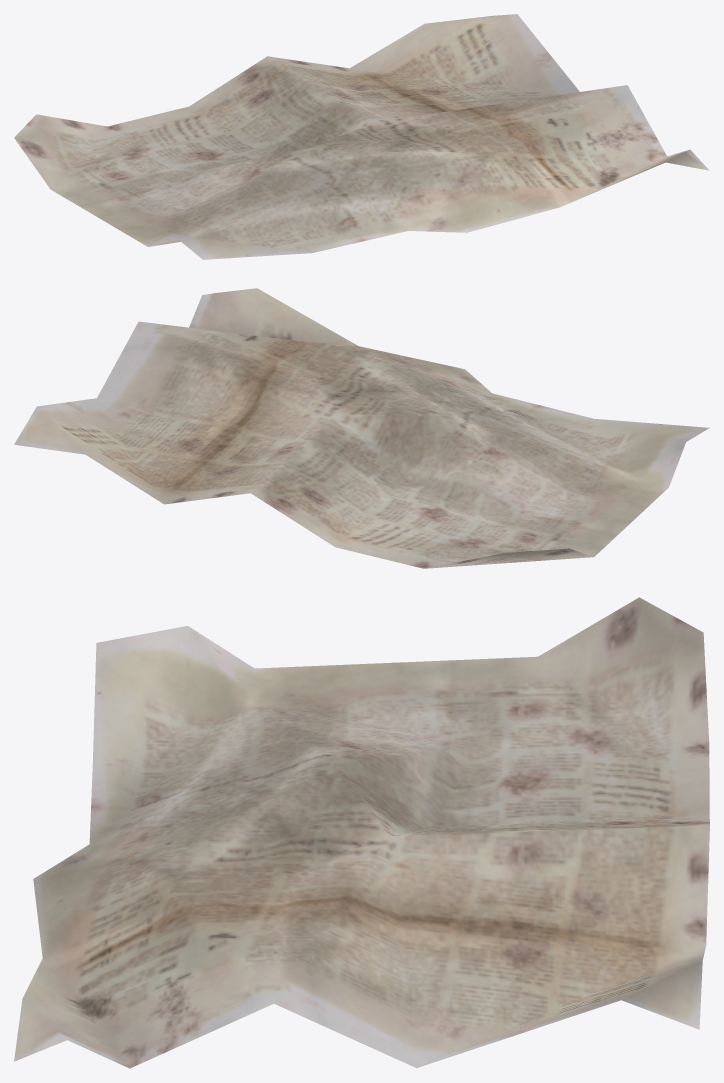
The model's file is SM_Paper_02.fbx.
3 views of the same model, one above another, from view 1: azimuth 30°, elevation 25°; view 2: azimuth 150°, elevation 25°; view 3: azimuth 270°, elevation 25° (orthographic). The views are drawn at different scales.
Parts seen in each view (by area): view 1: SM_Paper_02_LOD0; view 2: SM_Paper_02_LOD0; view 3: SM_Paper_02_LOD0.
Part boxes in pixels (x1,y1,x2,y2): SM_Paper_02_LOD0: (14, 14, 709, 259); SM_Paper_02_LOD0: (14, 288, 709, 568); SM_Paper_02_LOD0: (14, 597, 709, 1068).
Bounding box in the file's own units: 43.04 × 29.8 × 3.18.
Materials: 1 (1 with a texture image).
